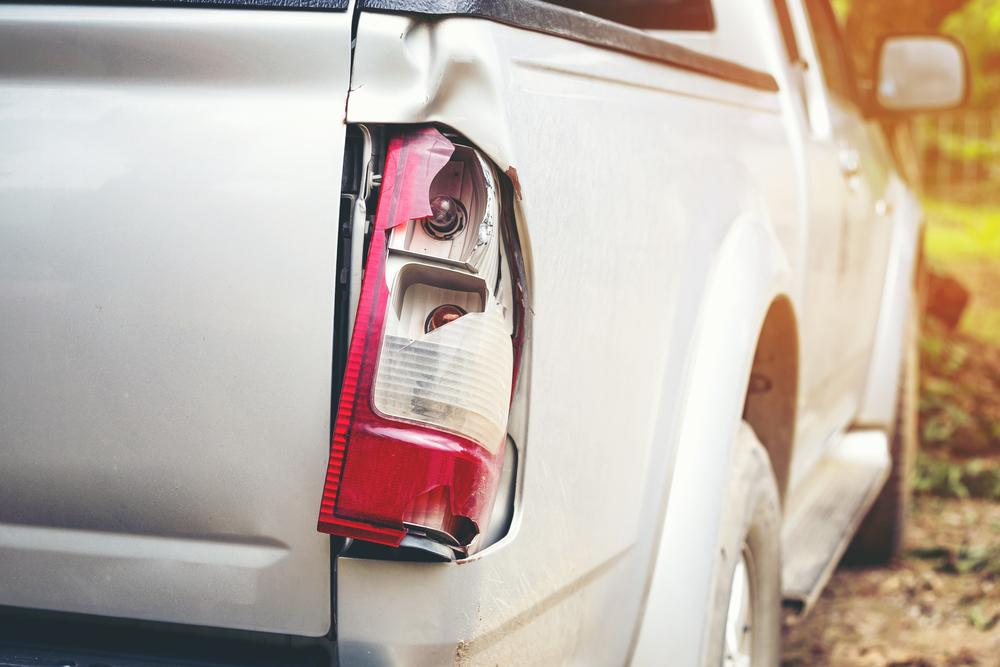dent: (353, 18, 513, 171)
lamp broken: (318, 117, 523, 553)
